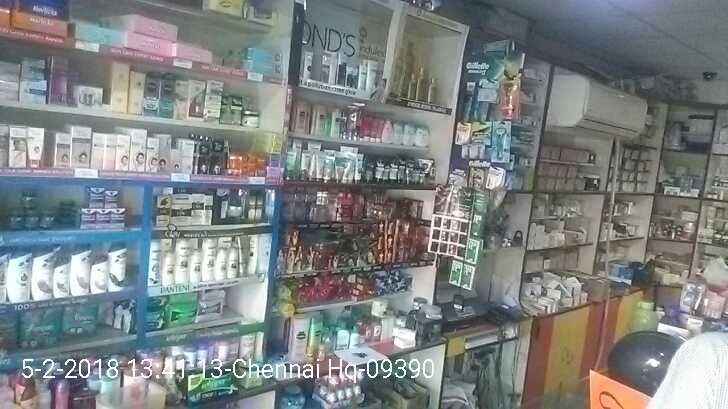vicks: (6, 175, 135, 236)
